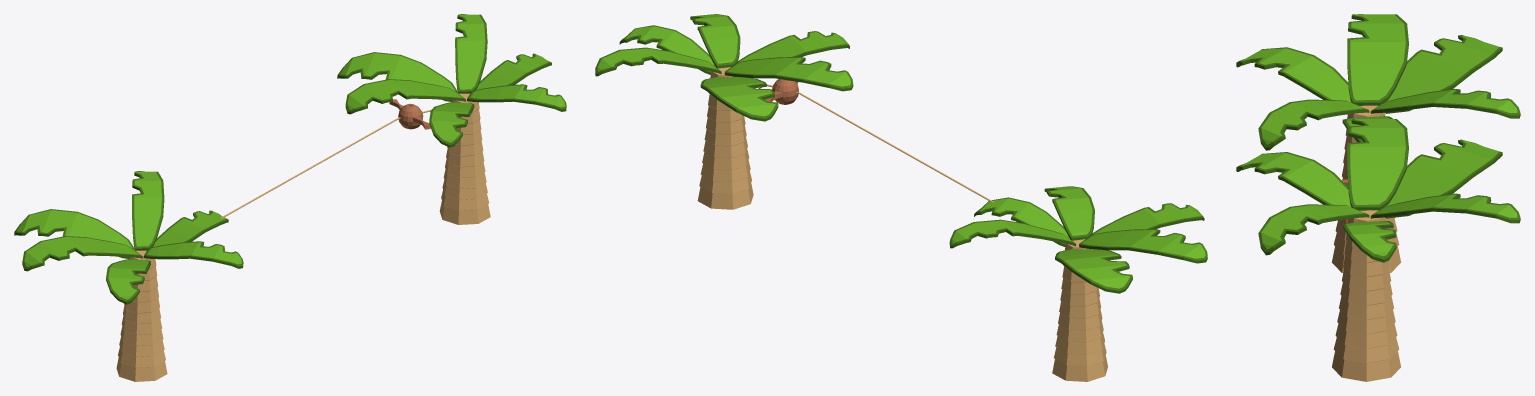
File: palm_zipline_high_long.glb
The picture shows the model from 3 angles, left to right: view 1: azimuth 30°, elevation 25°; view 2: azimuth 150°, elevation 25°; view 3: azimuth 270°, elevation 25°; orthographic projection. The views are drawn at different scales.
Visible parts, largest first — view 1: Zipline-col, HolderRight-col; view 2: Zipline-col, HolderRight-col; view 3: Zipline-col.
Part boxes in pixels (x1,y1,x2,y2): Zipline-col: (14, 14, 566, 381); HolderRight-col: (389, 99, 430, 129); Zipline-col: (595, 14, 1207, 381); HolderRight-col: (765, 79, 798, 104); Zipline-col: (1236, 14, 1520, 381).
Size of the model in its own units: 17 by 6.96 by 6.02.
Materials: 1 (1 with a texture image).
